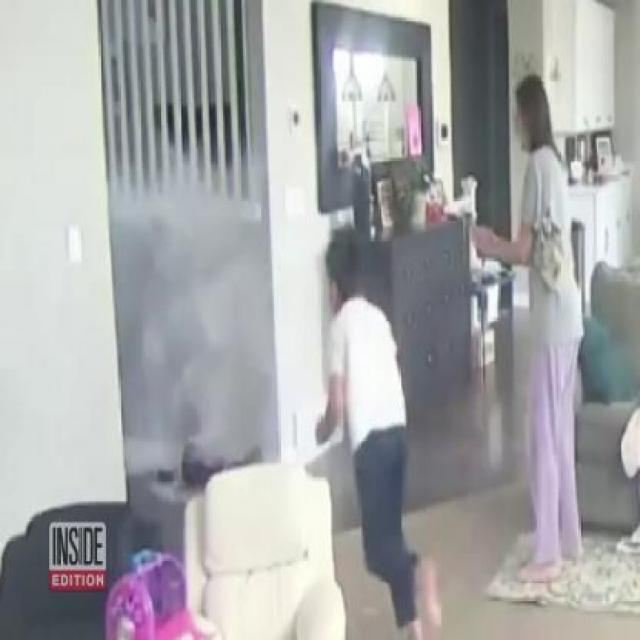smoke: (132, 175, 277, 438)
